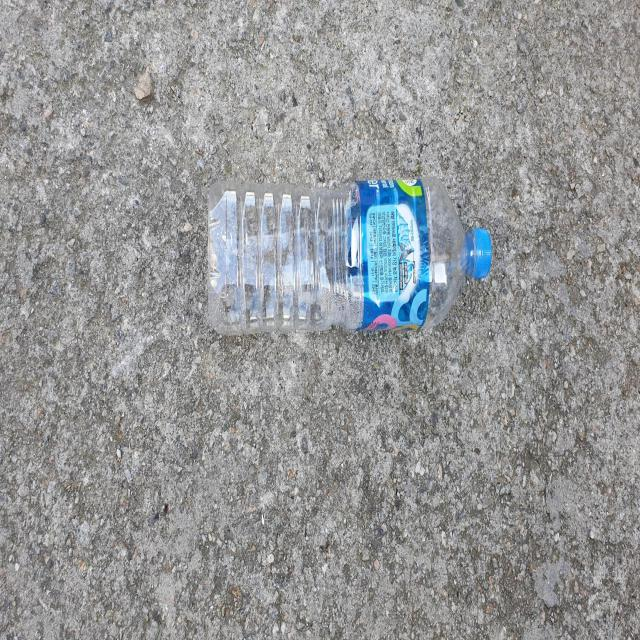plastic: (208, 175, 492, 333)
